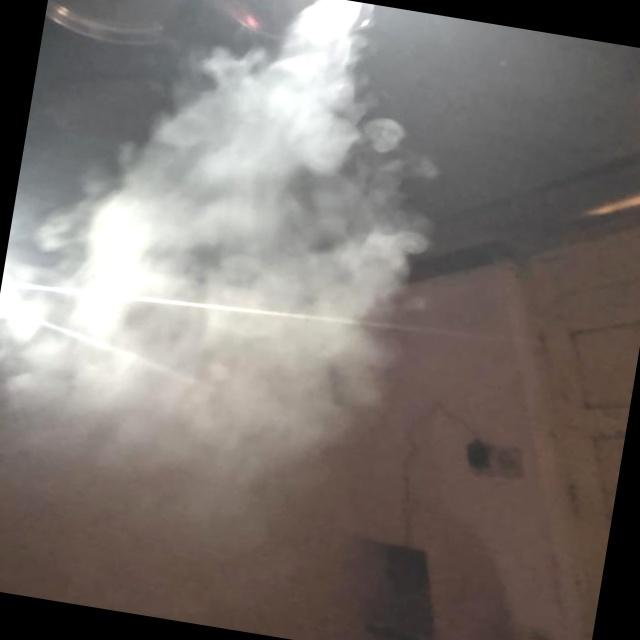smoke: (30, 103, 298, 450)
